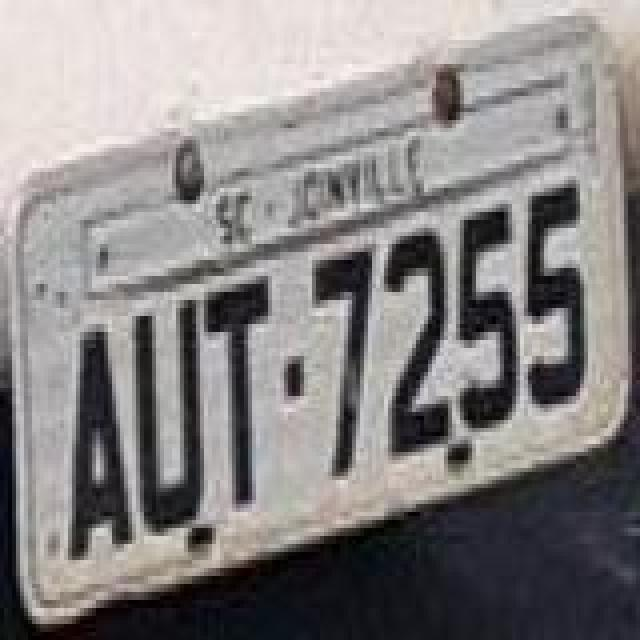2: (380, 228, 452, 460)
5: (454, 202, 522, 438), (524, 180, 588, 412)
7: (312, 246, 376, 482)
A: (64, 322, 136, 566)
T: (202, 270, 270, 514)
U: (130, 294, 206, 538)
